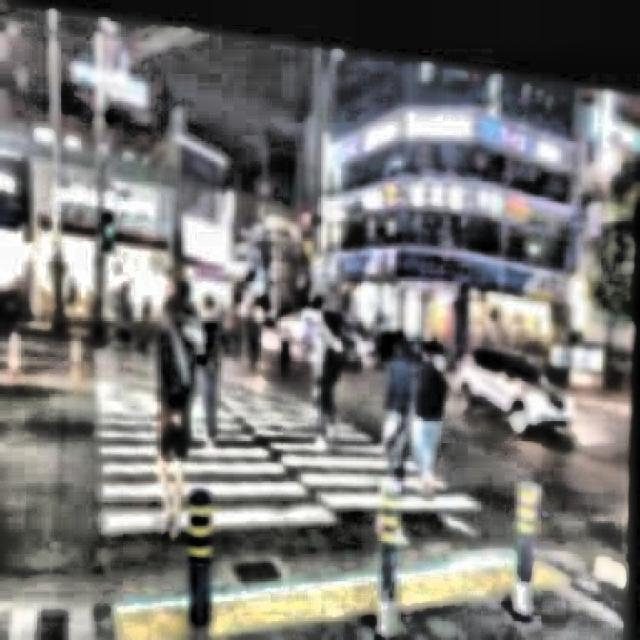semaforo pedestre: (78, 189, 136, 282)
